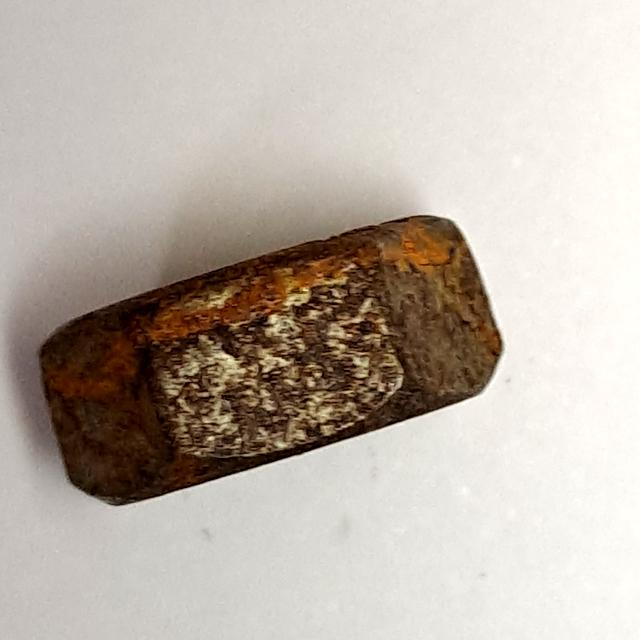Side_Rust: (30, 188, 518, 522)
